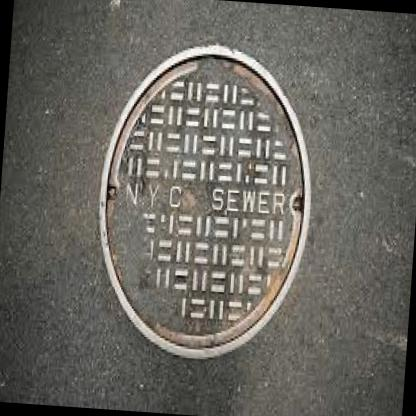manholes: (56, 16, 352, 386)
